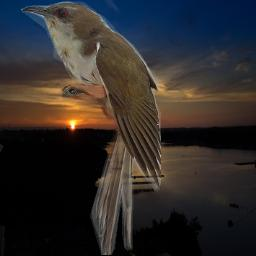Cuckoo: (21, 0, 161, 255)
